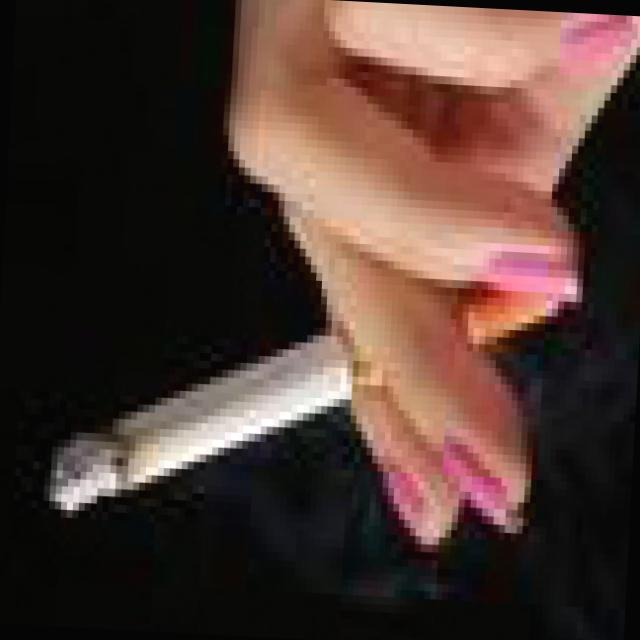cigarette: (34, 199, 608, 578)
